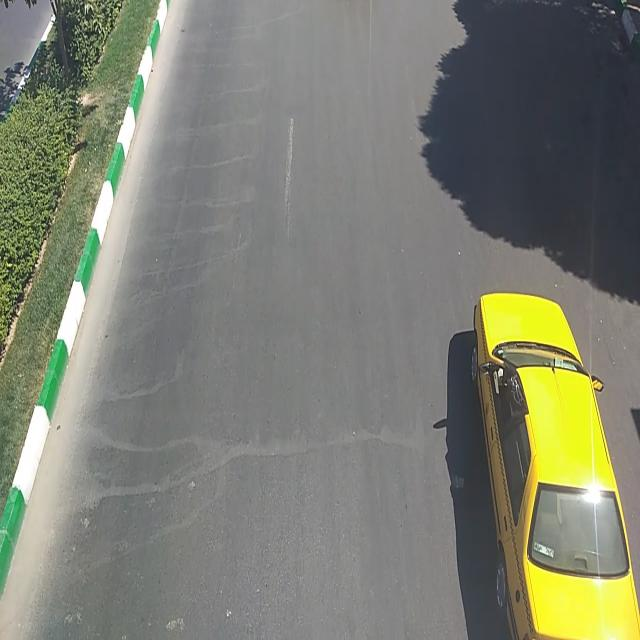car: (466, 290, 640, 640)
